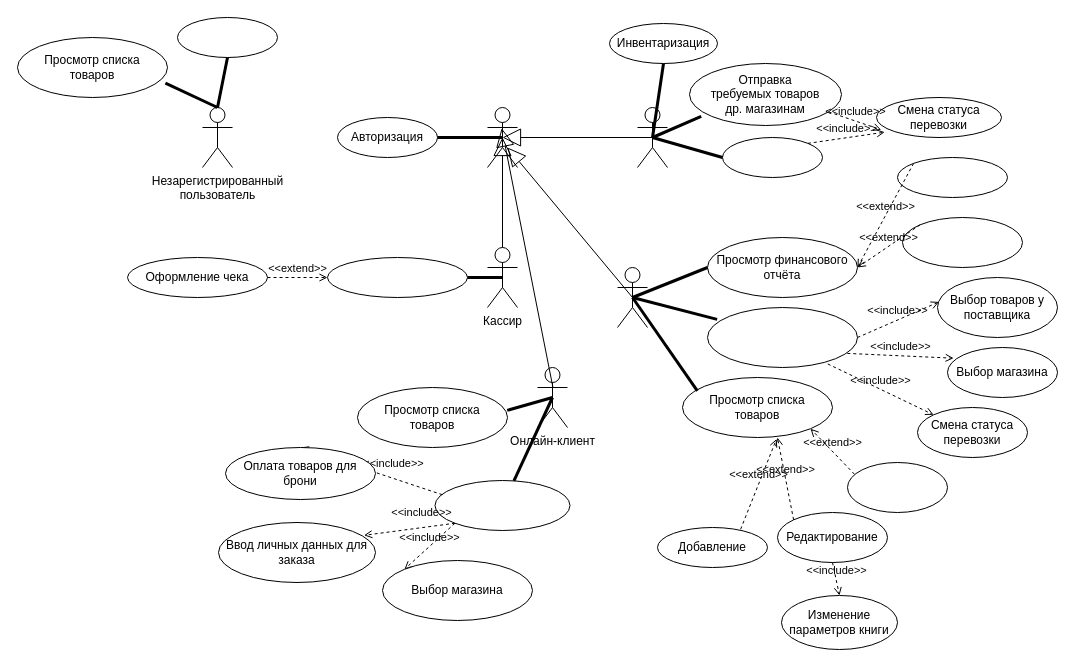
This 1075x667 diagram has some shape labels left out. Here are the shapes that lost their labels. From the top down, the centre of each, then its label:
At point (227, 37): "Регистрация".
At point (502, 137): "Зарегистрированный пользователь".
At point (652, 137): "Кладовщик".
At point (772, 157): "Приёмка товара".
At point (952, 177): "Сохранение файлом".
At point (962, 242): "Вывод на печать".
At point (397, 277): "Оформление продаж".
At point (632, 297): "Менеджер".
At point (782, 337): "Оформление заявки на закупку".
At point (502, 505): "Заказ товара".
At point (897, 487): "Удаление".
